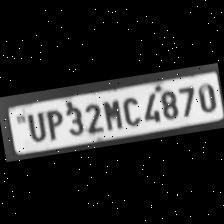0: (193, 79, 220, 113)
2: (81, 99, 104, 133)
3: (61, 102, 84, 136)
4: (138, 88, 162, 124)
7: (175, 82, 197, 116)
8: (156, 86, 181, 120)
C: (119, 92, 142, 126)
M: (100, 96, 122, 130)
P: (41, 105, 65, 140)
U: (21, 108, 47, 142)
